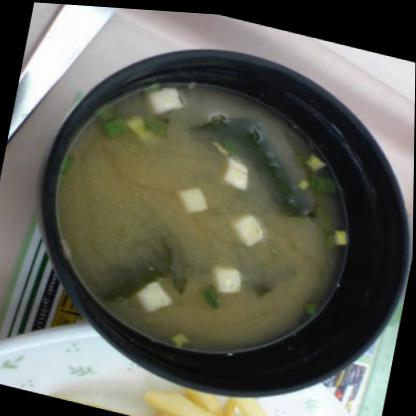miso soup: (32, 45, 391, 381)
